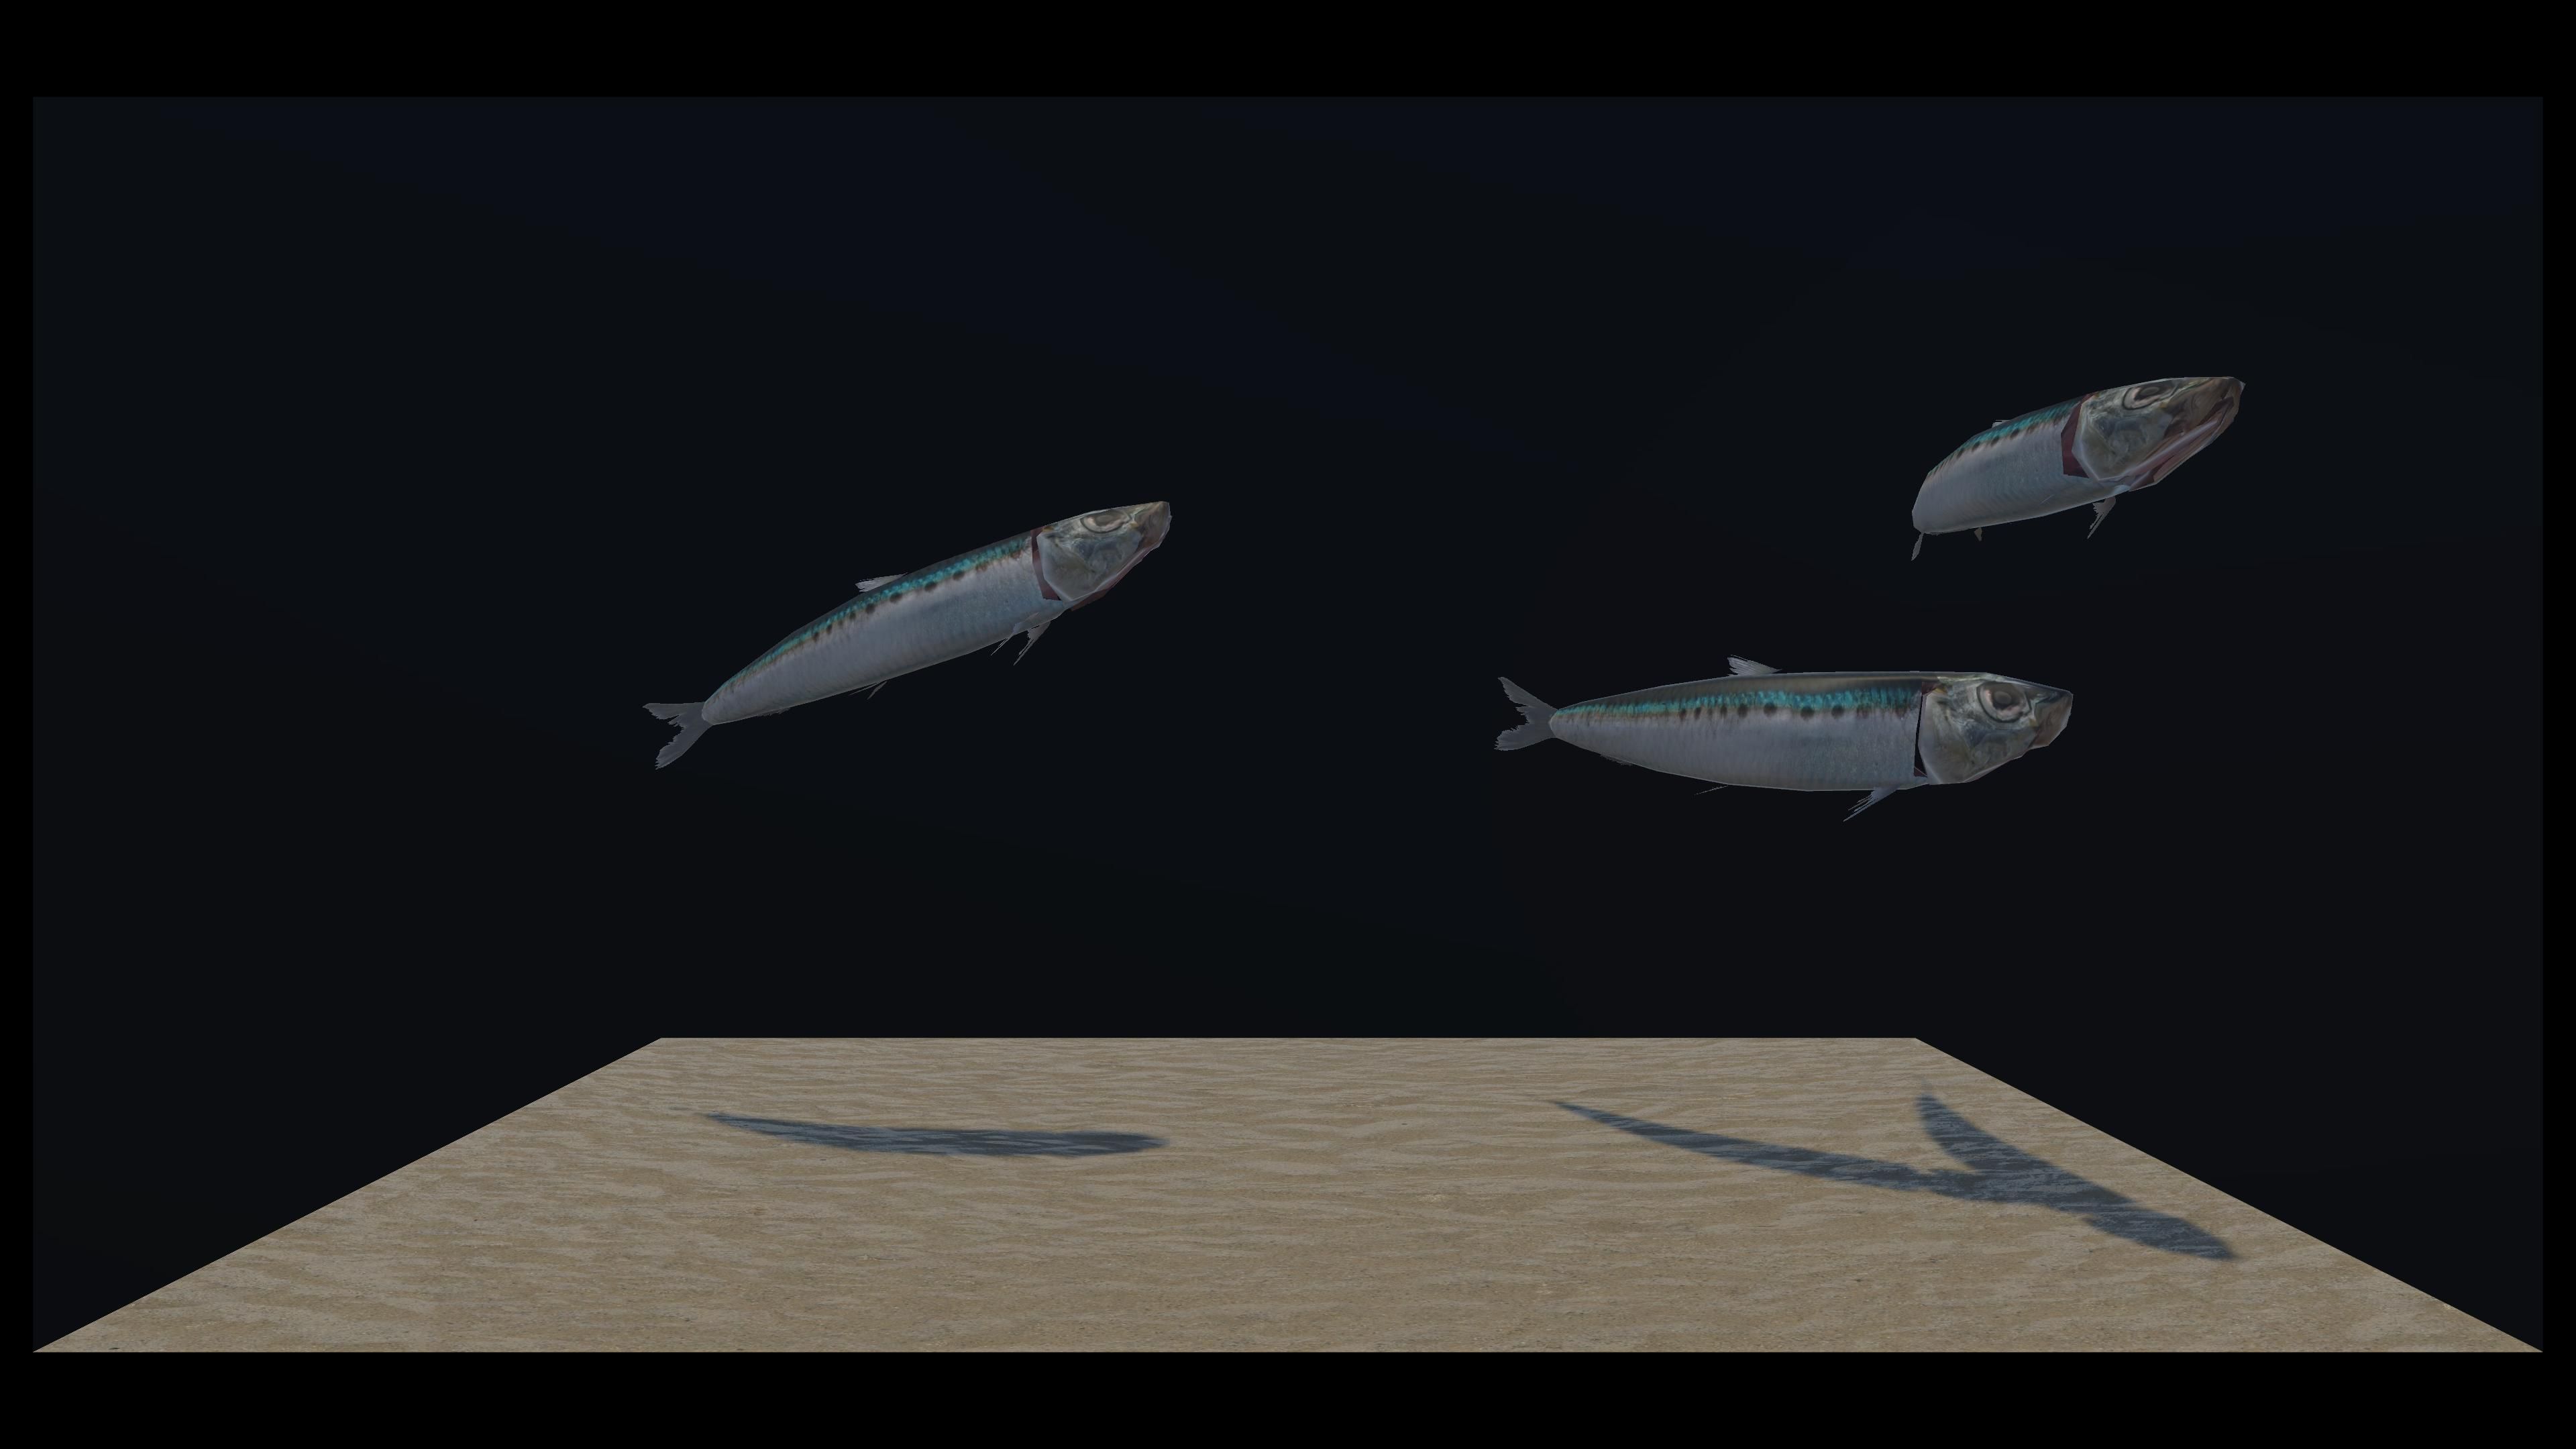Sardine_Front: (853, 322, 2065, 826), (725, 379, 2229, 561), (648, 487, 1162, 768)
